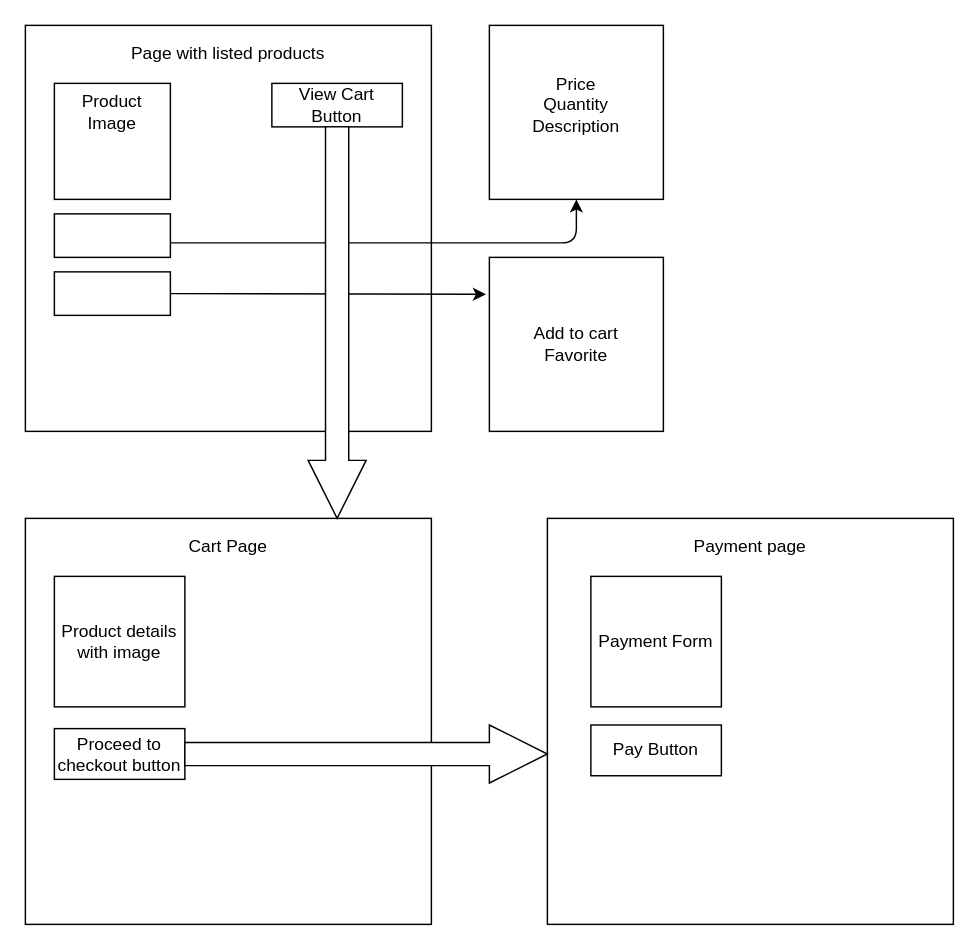
The diagram is 979 pixels wide and 950 high, and some of its shapes have lost their labels. Here are the shapes that lost their labels. From the top down, the centre of each, then its label:
the point at 111,234: Product Description
the point at 111,292: Operations
